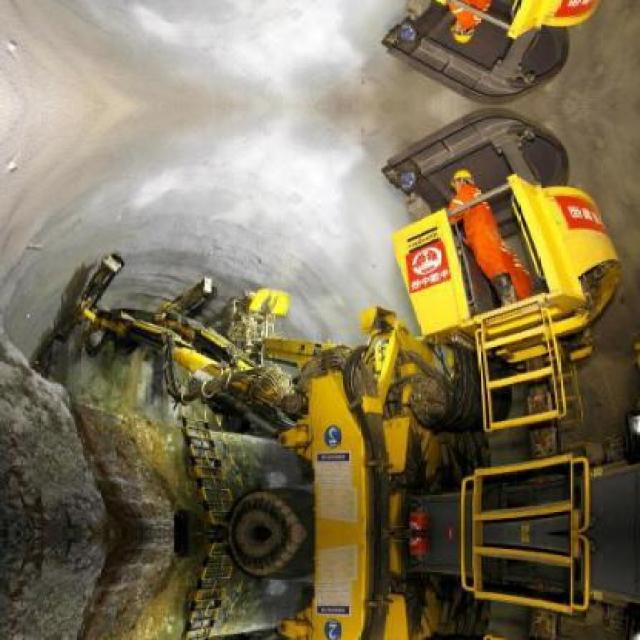Reflective-Jacket: (444, 187, 508, 285)
Safety-Helmet: (444, 164, 478, 186)
